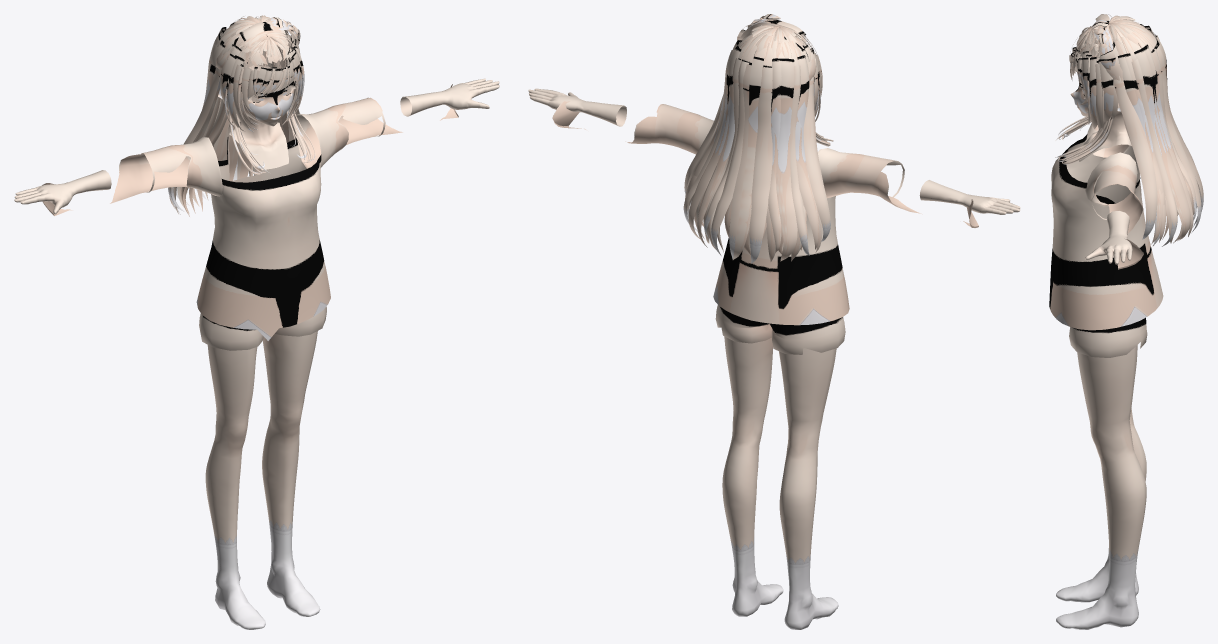
3 views of the same model, side by side, from view 1: azimuth 30°, elevation 25°; view 2: azimuth 150°, elevation 25°; view 3: azimuth 270°, elevation 25° (orthographic).
Visible parts, largest first — view 1: Body, Hair, Face; view 2: Body, Hair; view 3: Body, Hair, Face.
Part boxes in pixels (x1,y1,x2,y2): Body: (14,26,499,629); Hair: (168,15,315,216); Face: (218,34,296,126); Body: (528,35,1020,629); Hair: (683,14,833,263); Body: (1049,25,1163,629); Hair: (1055,14,1203,246); Face: (1070,42,1120,116).
Size of the model in its own units: 1.39 by 1.61 by 0.3774.
16 materials, 16 textured.
